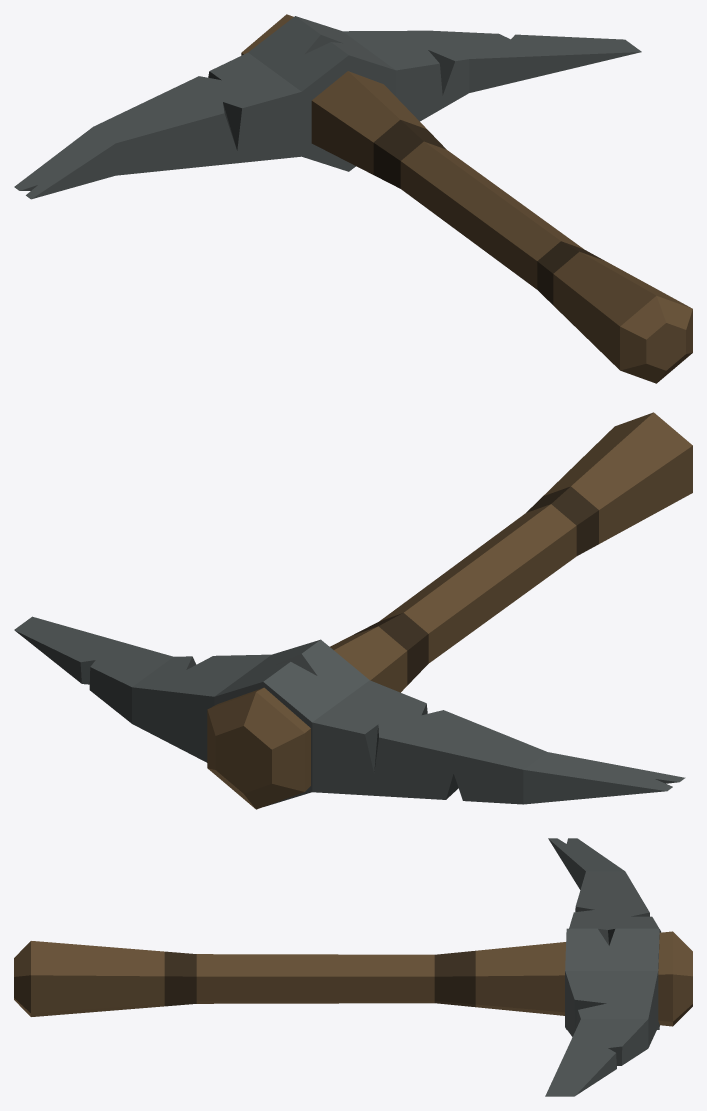
File: Pickaxe_2_Brown.fbx
3 views of the same model, one above another, from view 1: azimuth 30°, elevation 25°; view 2: azimuth 150°, elevation 25°; view 3: azimuth 270°, elevation 25° (orthographic). The views are drawn at different scales.
Parts seen in each view (by area): view 1: Pickaxe_2_Brown_Part_2, Pickaxe_2_Brown_Part_1, Pickaxe_2_Brown_Part_3, Pickaxe_2_Brown_Part_4; view 2: Pickaxe_2_Brown_Part_2, Pickaxe_2_Brown_Part_1, Pickaxe_2_Brown_Part_3, Pickaxe_2_Brown_Part_4; view 3: Pickaxe_2_Brown_Part_1, Pickaxe_2_Brown_Part_2, Pickaxe_2_Brown_Part_3, Pickaxe_2_Brown_Part_4.
Boxes of the visible parts, x1=… form: Pickaxe_2_Brown_Part_2: x1=14, y1=16, x2=641, y2=199; Pickaxe_2_Brown_Part_1: x1=241, y1=14, x2=692, y2=383; Pickaxe_2_Brown_Part_3: x1=373, y1=120, x2=604, y2=304; Pickaxe_2_Brown_Part_4: x1=20, y1=35, x2=454, y2=190; Pickaxe_2_Brown_Part_2: x1=14, y1=616, x2=685, y2=806; Pickaxe_2_Brown_Part_1: x1=207, y1=412, x2=692, y2=809; Pickaxe_2_Brown_Part_3: x1=351, y1=486, x2=598, y2=685; Pickaxe_2_Brown_Part_4: x1=80, y1=654, x2=679, y2=799; Pickaxe_2_Brown_Part_1: x1=14, y1=931, x2=692, y2=1026; Pickaxe_2_Brown_Part_2: x1=545, y1=838, x2=661, y2=1096; Pickaxe_2_Brown_Part_3: x1=164, y1=950, x2=475, y2=1007; Pickaxe_2_Brown_Part_4: x1=574, y1=906, x2=649, y2=1065.
Bounding box in the file's own units: 54.16 × 9.91 × 60.2.
